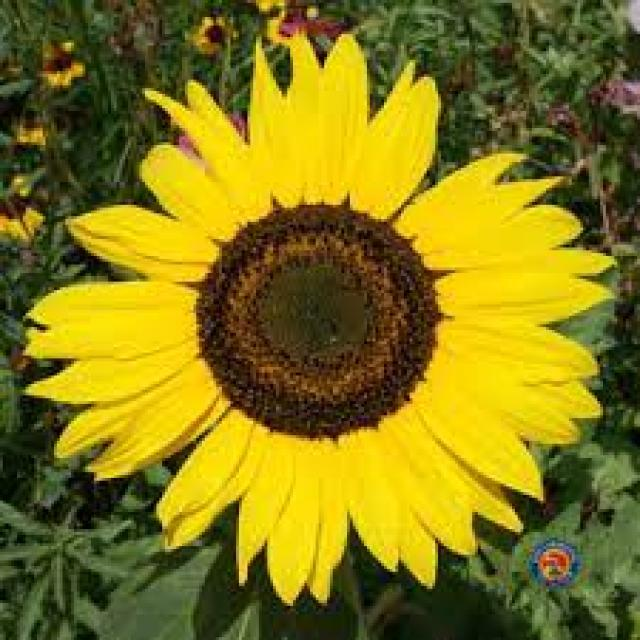sunflower: (20, 18, 634, 612), (0, 179, 66, 267), (33, 31, 98, 94), (8, 100, 66, 160), (186, 7, 245, 59), (269, 9, 330, 52), (240, 0, 298, 24)
